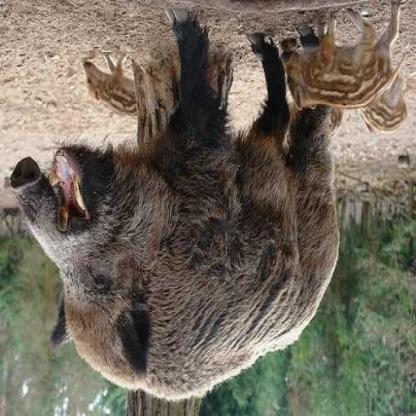boar: (13, 15, 354, 407), (280, 6, 403, 124)
